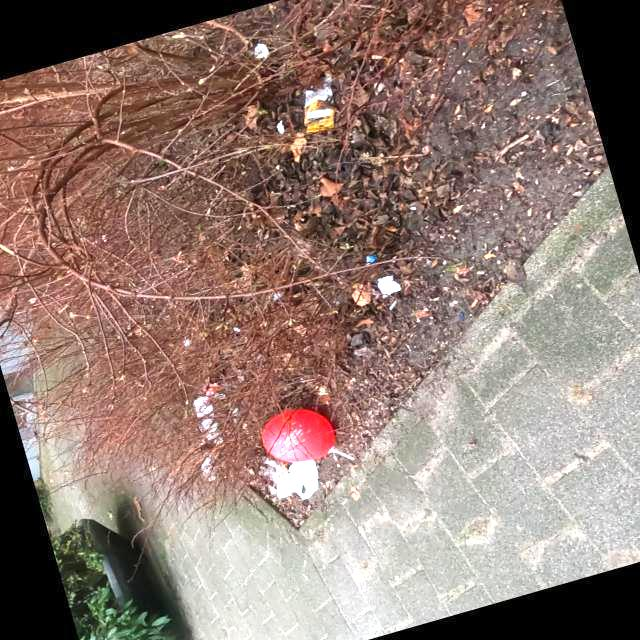Paper: (302, 74, 340, 134), (257, 456, 293, 498), (289, 460, 319, 500), (376, 274, 402, 298)
